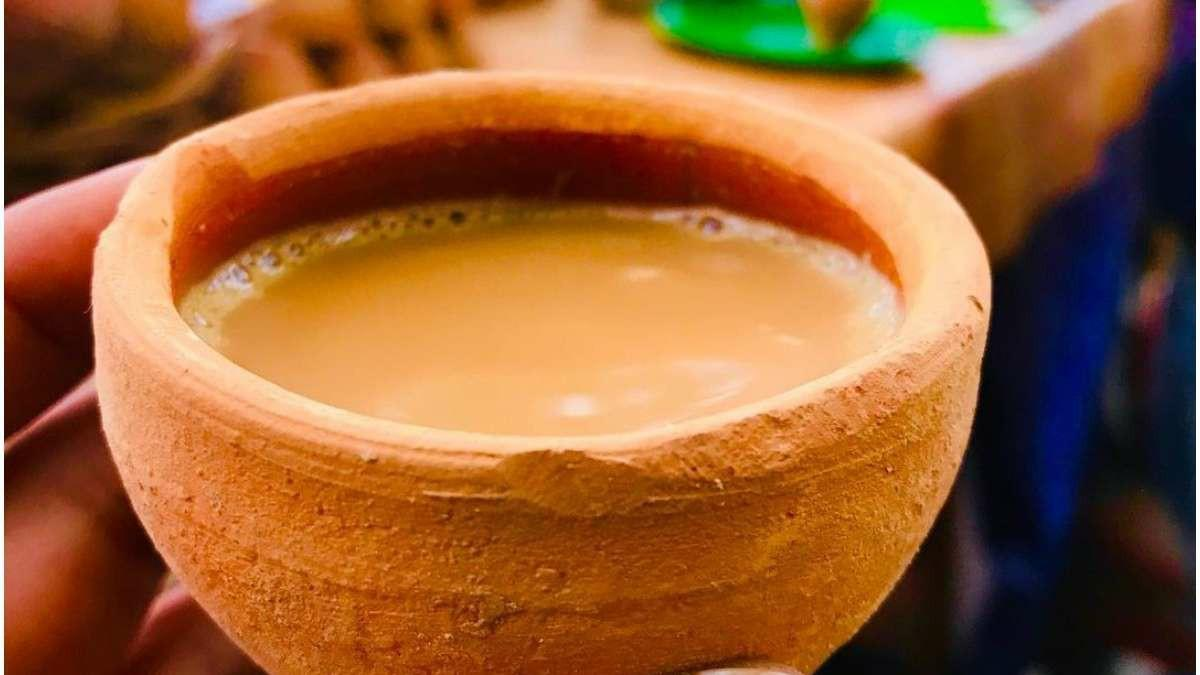Chai: (177, 201, 904, 434)
